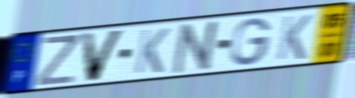G: (229, 16, 273, 68)
K: (275, 13, 315, 62), (133, 26, 172, 75)
N: (169, 18, 224, 76)
V: (79, 28, 128, 84)
Z: (34, 33, 81, 88)
